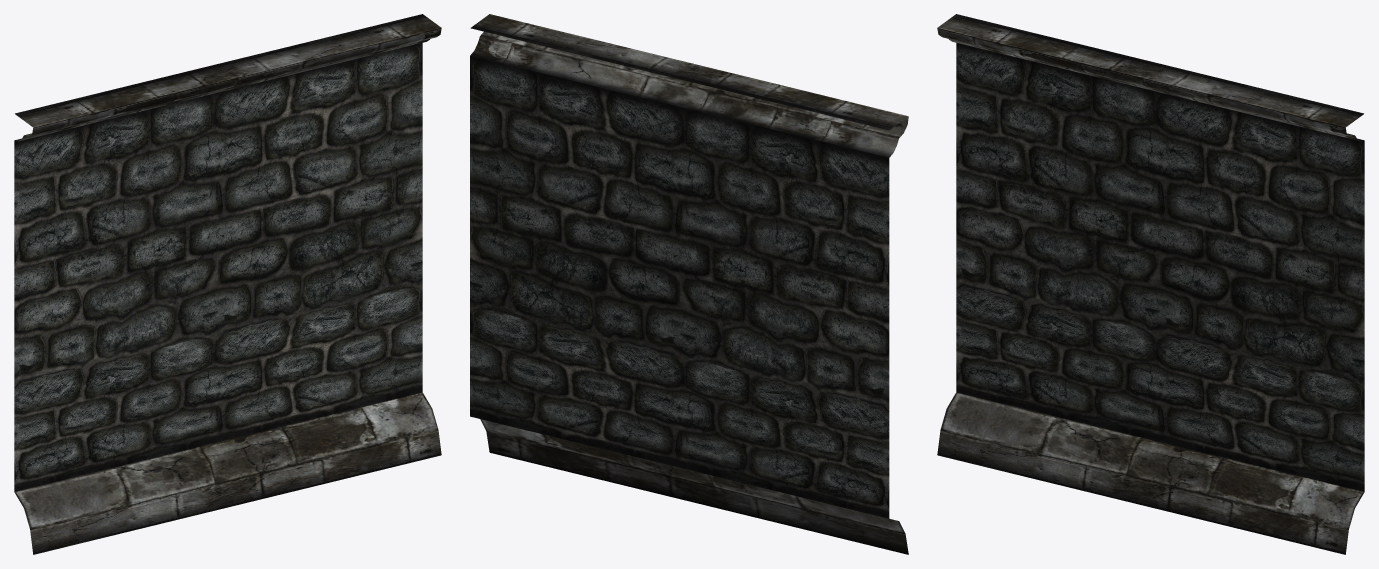
Rendered from default_extension.dae.
3 views of the same model, side by side, from view 1: azimuth 30°, elevation 25°; view 2: azimuth 150°, elevation 25°; view 3: azimuth 330°, elevation 25° (orthographic). The views are drawn at different scales.
Parts seen in each view (by area): view 1: Object077; view 2: Object077; view 3: Object077.
Boxes of the visible parts, left/top/right/bottom form: Object077: left=14, top=14, right=441, bottom=554; Object077: left=470, top=14, right=908, bottom=554; Object077: left=937, top=14, right=1364, bottom=554.
Size of the model in its own units: 4 by 4 by 0.3222.
